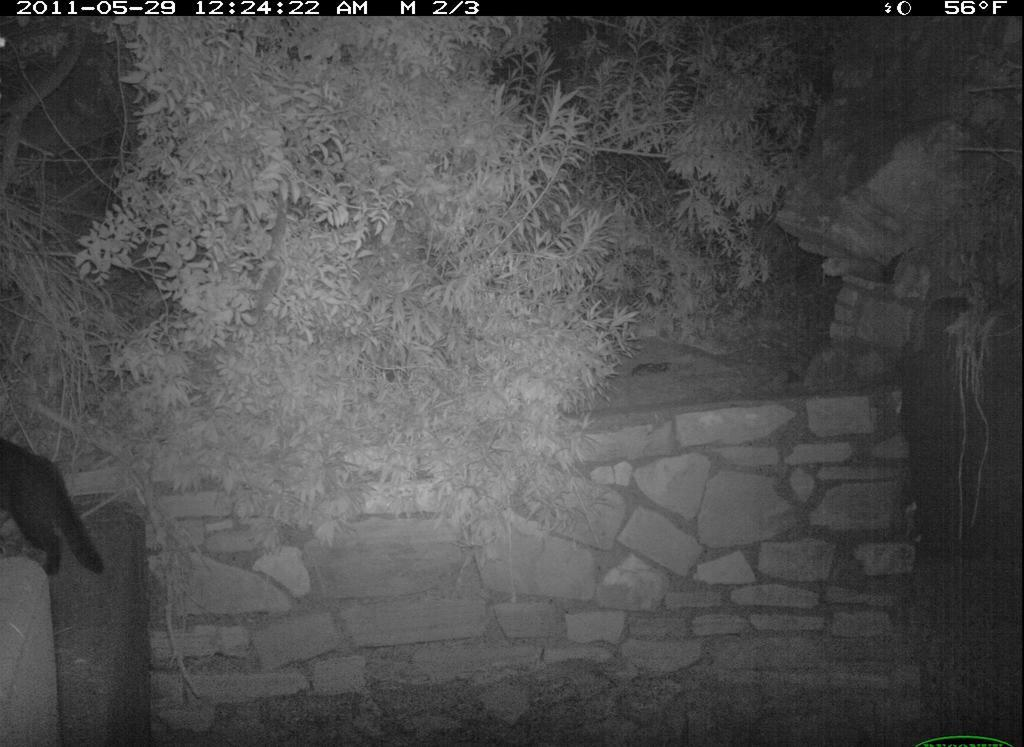cat: (1, 432, 122, 604)
